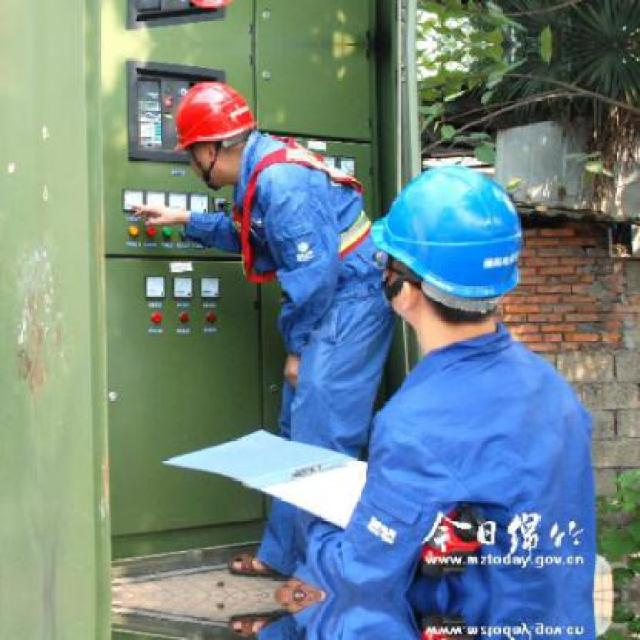helmet: (378, 164, 532, 292), (172, 81, 258, 146)
